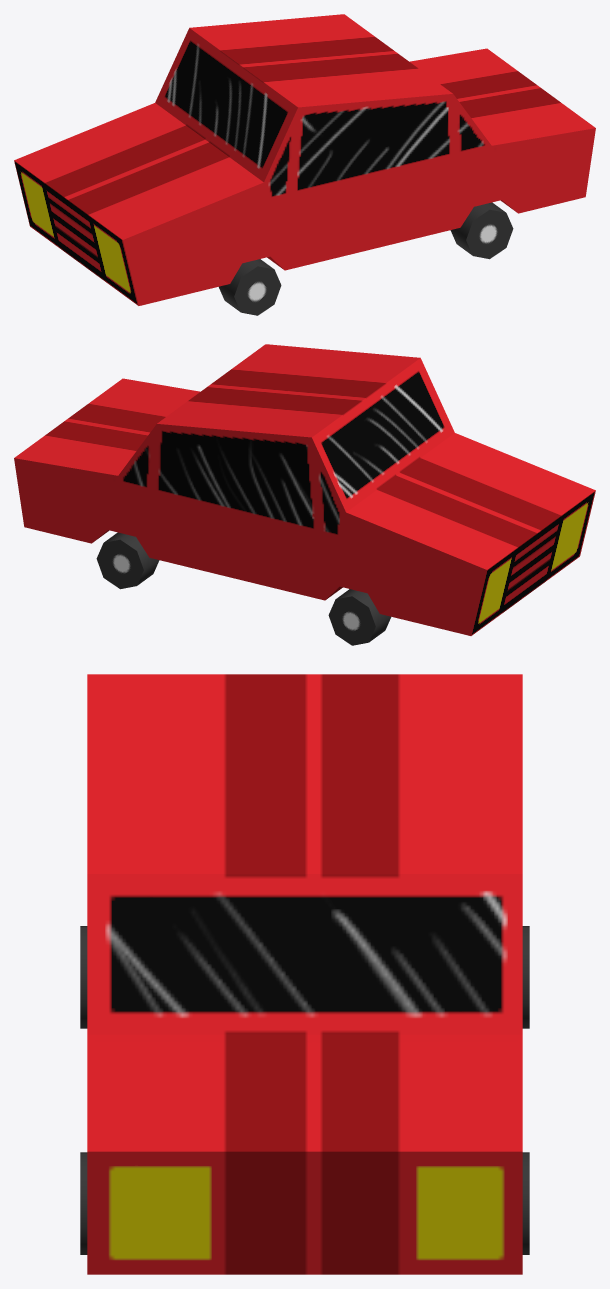
The model's file is carrinho_vermelho.FBX.
3 views of the same model, one above another, from view 1: azimuth 30°, elevation 25°; view 2: azimuth 150°, elevation 25°; view 3: azimuth 270°, elevation 25° (orthographic). The views are drawn at different scales.
Visible parts, largest first — view 1: Carrinho_Vermelho; view 2: Carrinho_Vermelho; view 3: Carrinho_Vermelho.
Part boxes in pixels (<box>): Carrinho_Vermelho: <box>14,14,595,315</box>; Carrinho_Vermelho: <box>14,344,595,645</box>; Carrinho_Vermelho: <box>80,674,529,1274</box>.
Bounding box in the file's own units: 163 × 66.94 × 64.72.
